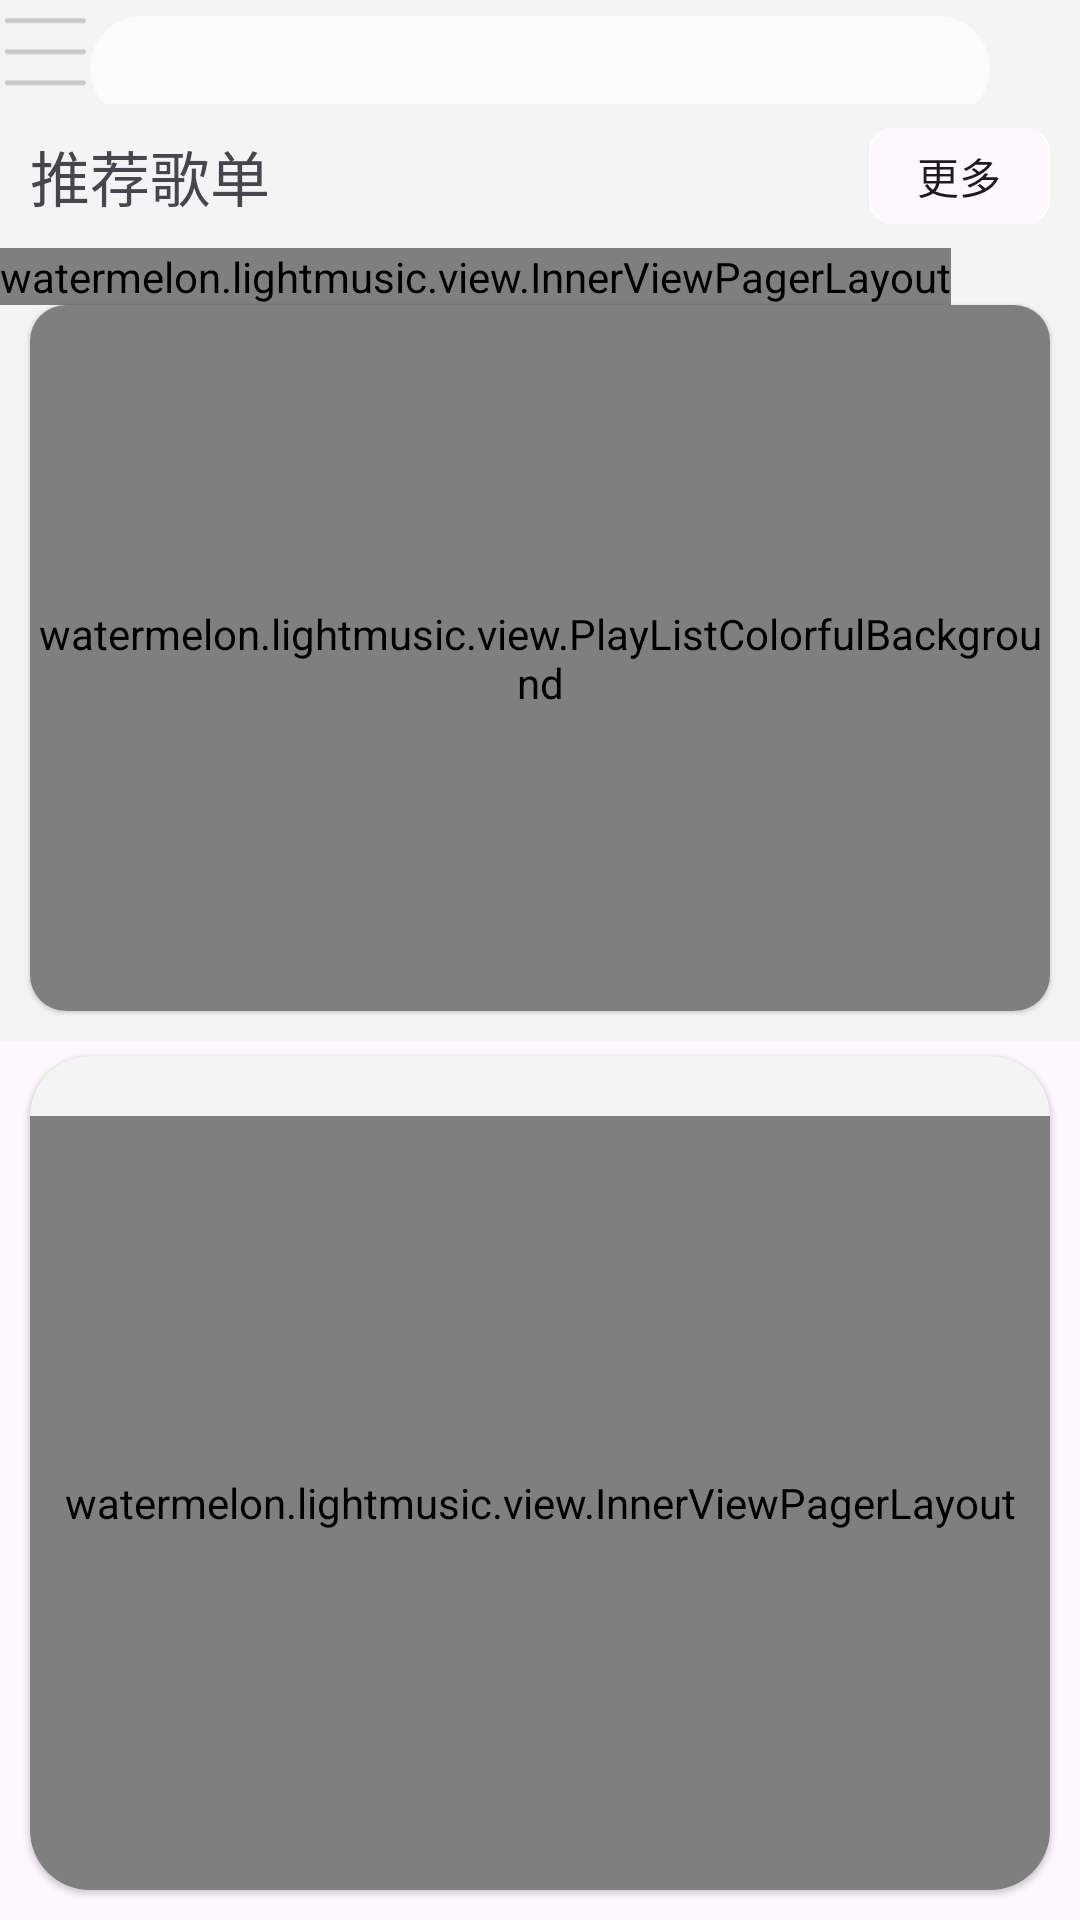

Where icons sit on this 1080 × 1920 app screen, as rect(x1, y1, x2, y2):
menu: rect(5, 18, 86, 85)
